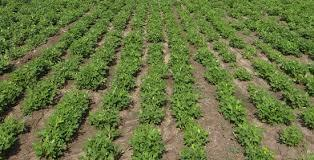field: (0, 0, 313, 158)
